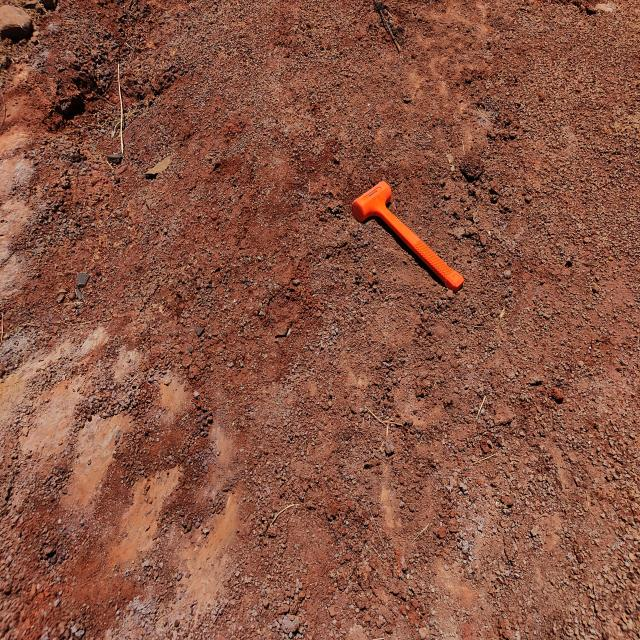Orange_hammer: (351, 180, 464, 294)
